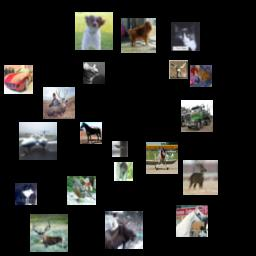airplane: (19, 122, 57, 160), (146, 142, 178, 174)
automobile: (4, 65, 33, 94)
bird: (67, 176, 96, 205), (114, 162, 133, 181), (112, 141, 128, 157)
cat: (171, 22, 200, 51), (15, 183, 37, 205), (83, 62, 105, 84), (190, 65, 212, 87)
deer: (105, 211, 143, 249), (30, 214, 68, 252), (183, 160, 218, 195), (43, 87, 75, 119), (169, 60, 188, 79)
dog: (75, 12, 113, 50), (121, 18, 156, 53)
truck: (181, 100, 213, 132)
